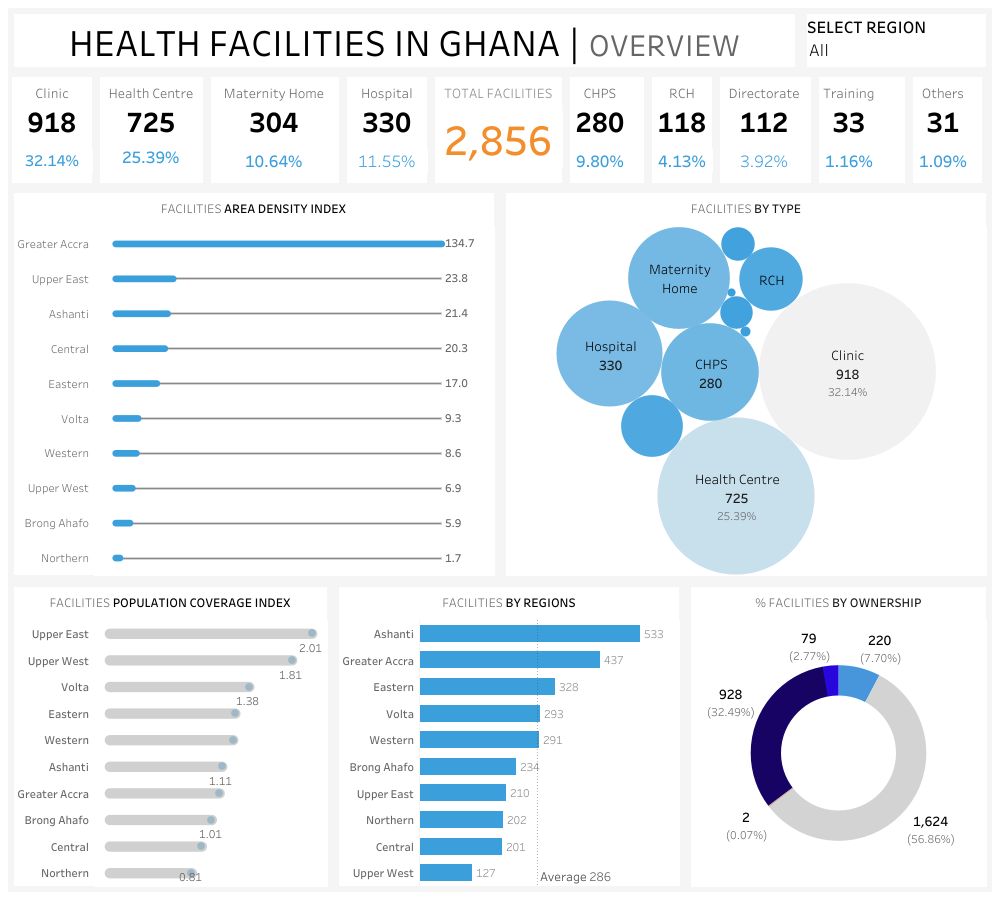

The dashboard page shown, as its layout file describes it:
{"tool":"tableau","page":{"name":"HEALTH FACILITIES OVERVIEW","canvas":[1000,900],"ordinal":0},"visuals":[{"type":"text","box":[8,8,792.9,65.4]},{"type":"filter","title":"FACILITIES BY REGIONS","param":"[federated.0drba3f1ry0rc417o65qk19wzx9v].[none:Region:nk]","box":[800.9,8,191.1,65.4]},{"type":"worksheet","title":"Clinic","mark":"Automatic","box":[8,73.4,88,113.6]},{"type":"worksheet","title":"Health Centre","mark":"Automatic","box":[96,73.4,111,113.6]},{"type":"worksheet","title":"Maternity Home","mark":"Automatic","box":[207,73.4,136,113.6]},{"type":"worksheet","title":"Hospital","mark":"Automatic","box":[343,73.4,88,113.6]},{"type":"worksheet","title":"TOTAL FACILITIES","mark":"Automatic","box":[431,73.4,135,113.6]},{"type":"worksheet","title":"CHPS","mark":"Automatic","box":[566,73.4,82,113.6]},{"type":"worksheet","title":"RCH","mark":"Automatic","box":[648,73.4,68,113.6]},{"type":"worksheet","title":"Health Directorate","mark":"Automatic","box":[716,73.4,99,113.6]},{"type":"worksheet","title":"Training Institution","mark":"Automatic","box":[815,73.4,94,113.6]},{"type":"worksheet","title":"Others","mark":"Automatic","box":[909,73.4,77,113.6]},{"type":"worksheet","title":"ADI","mark":"Automatic","rows":["Region"],"cols":["Calculation_639511149836062769"],"box":[8,187,492,394.2]},{"type":"worksheet","title":"FACILITIES BY TYPE","mark":"Circle","box":[500,187,492,394.2]},{"type":"worksheet","title":"PCI","mark":"Automatic","rows":["Region"],"cols":["Calculation_639511149711278114"],"box":[8,581.2,325,310.8]},{"type":"worksheet","title":"FACILITIES BY REGIONS","mark":"Automatic","rows":["Region"],"cols":["Facility Name"],"box":[333,581.2,352,310.8]},{"type":"worksheet","title":"FACILITIES BY OWNERSHIP","mark":"Pie","rows":["Calculation_639511149552099356","Calculation_639511149552308254"],"box":[685,581.2,307,310.8]}]}

Visuals, with their boxes in screenshot pixels (x1, y1, x2, y2), scaled from the page's 1000x900 canvas onto the 999x899 screenshot:
text: <bbox>8, 8, 800, 73</bbox>
"FACILITIES BY REGIONS" filter: <bbox>800, 8, 991, 73</bbox>
"Clinic" worksheet: <bbox>8, 73, 96, 187</bbox>
"Health Centre" worksheet: <bbox>96, 73, 207, 187</bbox>
"Maternity Home" worksheet: <bbox>207, 73, 343, 187</bbox>
"Hospital" worksheet: <bbox>343, 73, 431, 187</bbox>
"TOTAL FACILITIES" worksheet: <bbox>431, 73, 565, 187</bbox>
"CHPS" worksheet: <bbox>565, 73, 647, 187</bbox>
"RCH" worksheet: <bbox>647, 73, 715, 187</bbox>
"Health Directorate" worksheet: <bbox>715, 73, 814, 187</bbox>
"Training Institution" worksheet: <bbox>814, 73, 908, 187</bbox>
"Others" worksheet: <bbox>908, 73, 985, 187</bbox>
"ADI" worksheet: <bbox>8, 187, 500, 581</bbox>
"FACILITIES BY TYPE" worksheet (Circle marks): <bbox>500, 187, 991, 581</bbox>
"PCI" worksheet: <bbox>8, 581, 333, 891</bbox>
"FACILITIES BY REGIONS" worksheet: <bbox>333, 581, 684, 891</bbox>
"FACILITIES BY OWNERSHIP" worksheet (Pie marks): <bbox>684, 581, 991, 891</bbox>
